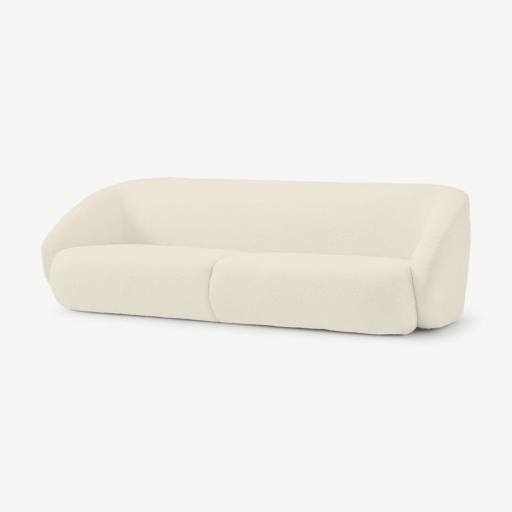back_cushion: (123, 178, 441, 258)
left_arm: (410, 186, 470, 328)
right_arm: (42, 184, 124, 282)
seat_cushion: (50, 245, 417, 334)
two-seater: (0, 0, 511, 512)
